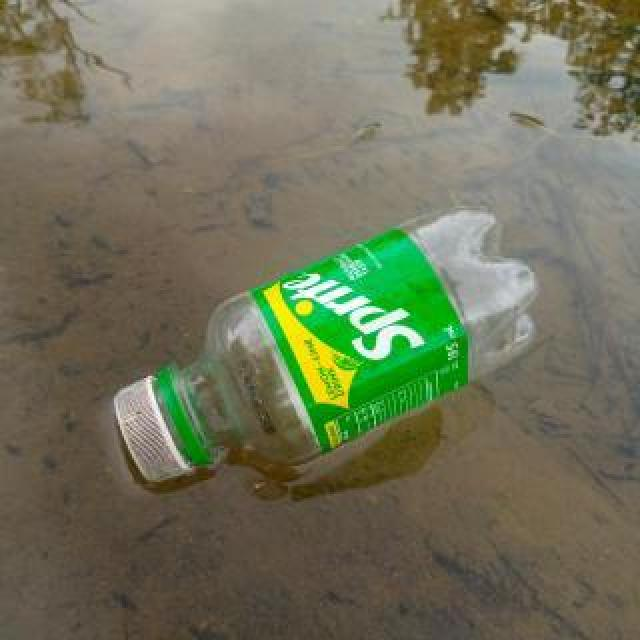bottle: (109, 203, 543, 489)
